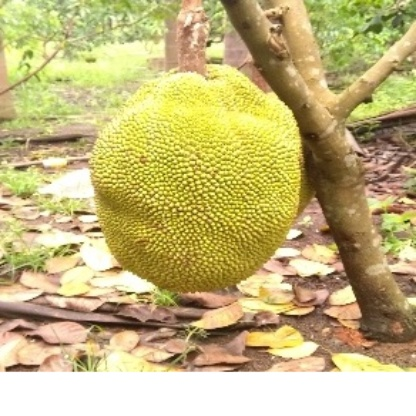mit: (83, 42, 311, 313)
